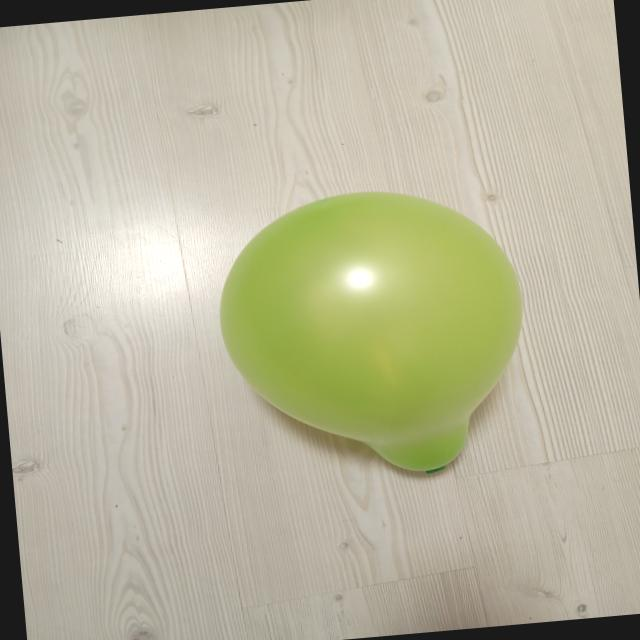balloon: (219, 192, 522, 472)
